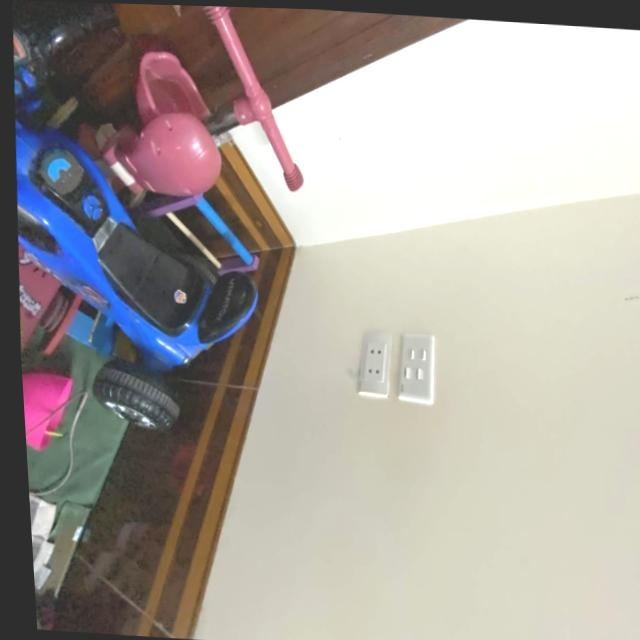outlet: (352, 329, 395, 398)
